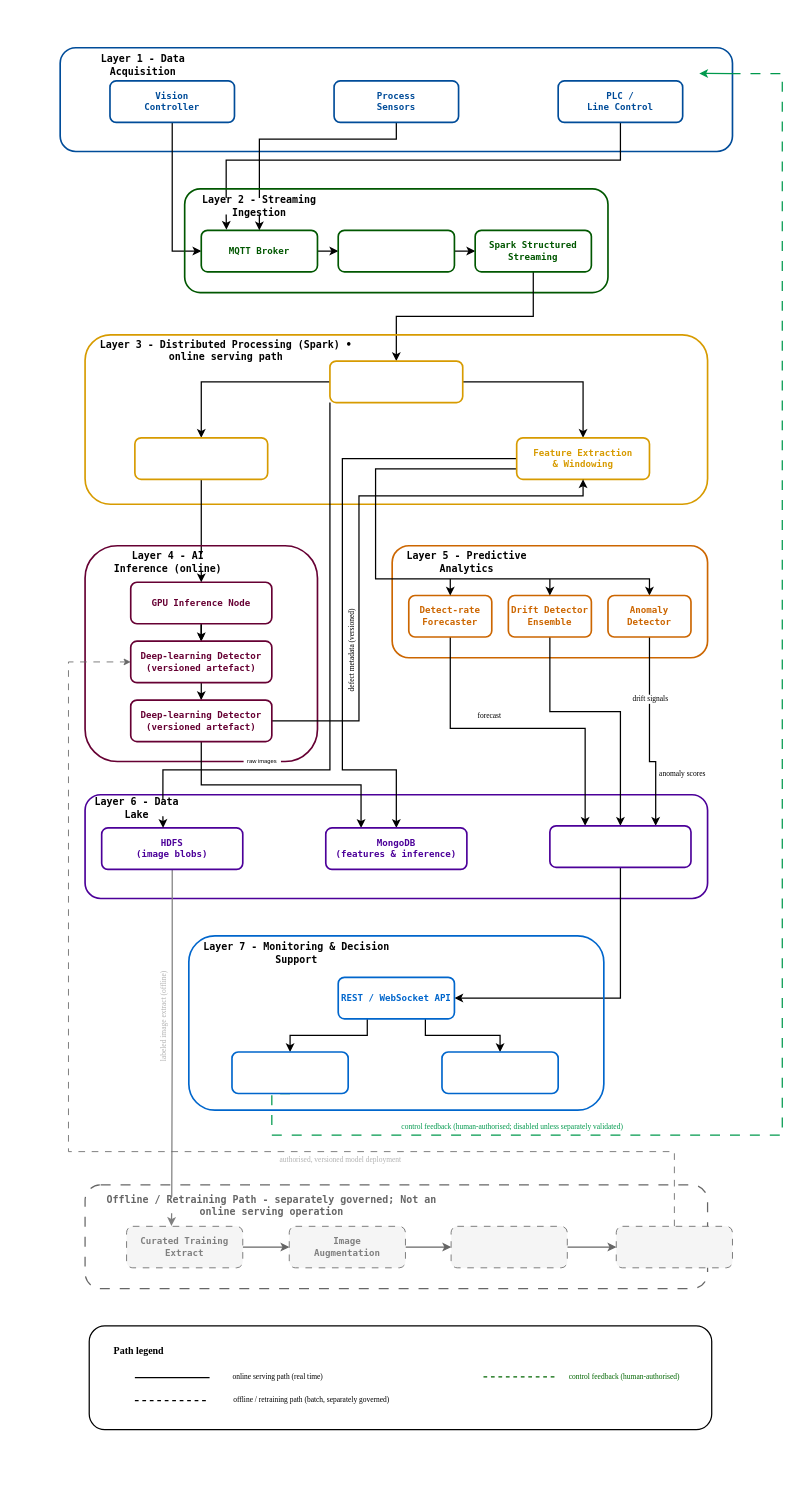
This 800x1497 diagram has some shape labels left out. Each missing label, with the box of its shape:
Alert Manager: (231, 1051, 349, 1094)
Apache Kafka: (337, 229, 455, 272)
Distributed ETL Workers: (329, 360, 463, 403)
Frame Preprocessing (deterministic): (134, 437, 268, 480)
Grafana Dasboard: (441, 1051, 559, 1094)
Model Registry (versioned): (615, 1225, 732, 1268)
Model Training & Validation: (450, 1225, 567, 1268)
Time-series Store (analytics): (549, 825, 691, 868)
